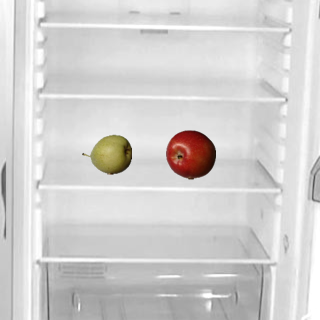Apple Braeburn: (165, 129, 215, 179)
Pear: (81, 129, 131, 179)
